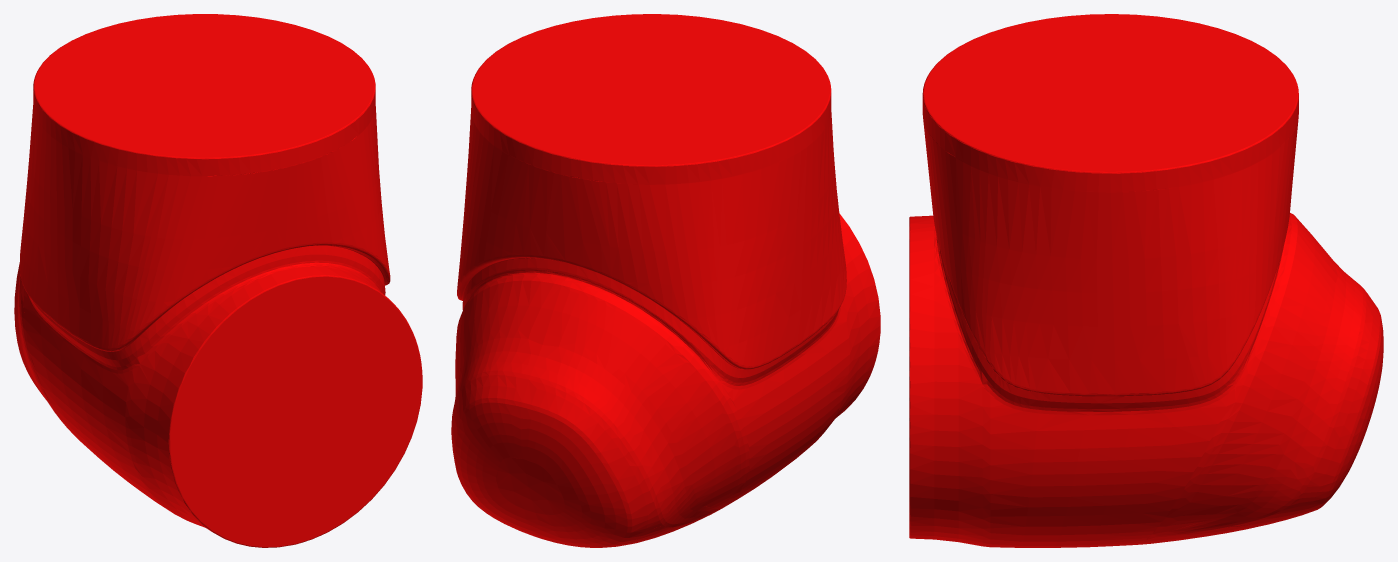
The picture shows the model from 3 angles, left to right: view 1: azimuth 30°, elevation 25°; view 2: azimuth 150°, elevation 25°; view 3: azimuth 270°, elevation 25°; orthographic projection. The views are drawn at different scales.
Visible parts, largest first — view 1: H2017_3_0; view 2: H2017_3_0; view 3: H2017_3_0.
Part boxes in pixels (x1,y1,x2,y2): H2017_3_0: (14,14,422,547); H2017_3_0: (451,14,880,547); H2017_3_0: (909,14,1383,547).
Size of the model in its own units: 153 by 193 by 197.
